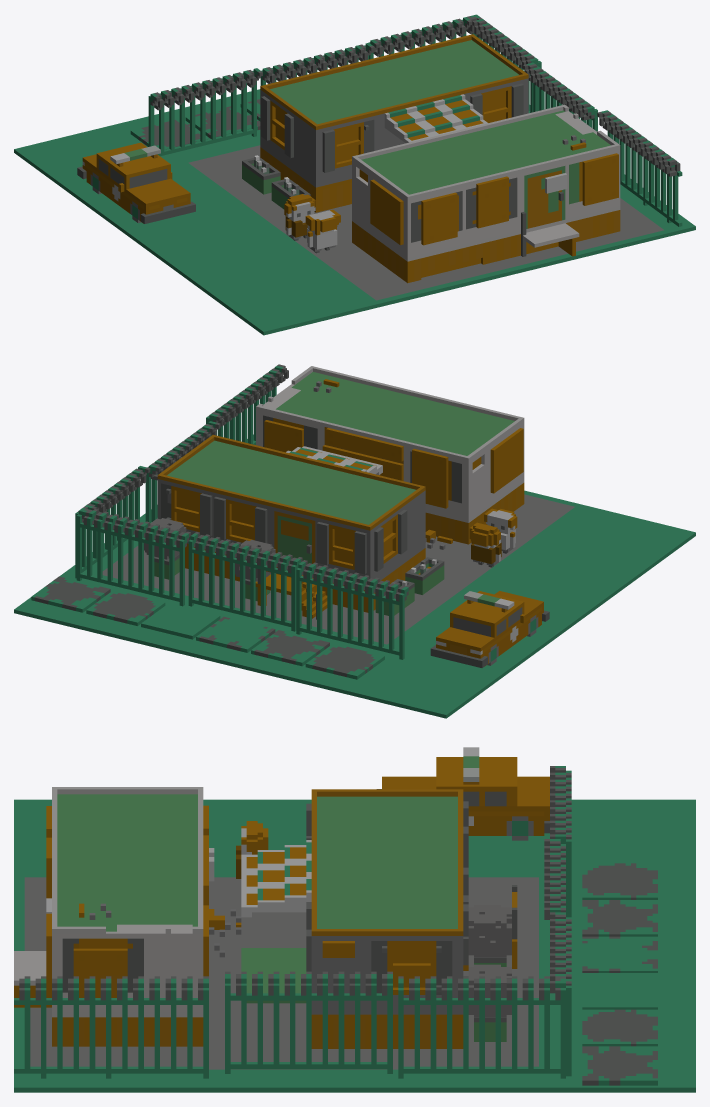
The model's file is scene_mobile.obj.
3 views of the same model, one above another, from view 1: azimuth 30°, elevation 25°; view 2: azimuth 150°, elevation 25°; view 3: azimuth 270°, elevation 25° (orthographic). The views are drawn at different scales.
Bounding box in the file's own units: 126 × 25 × 126.
